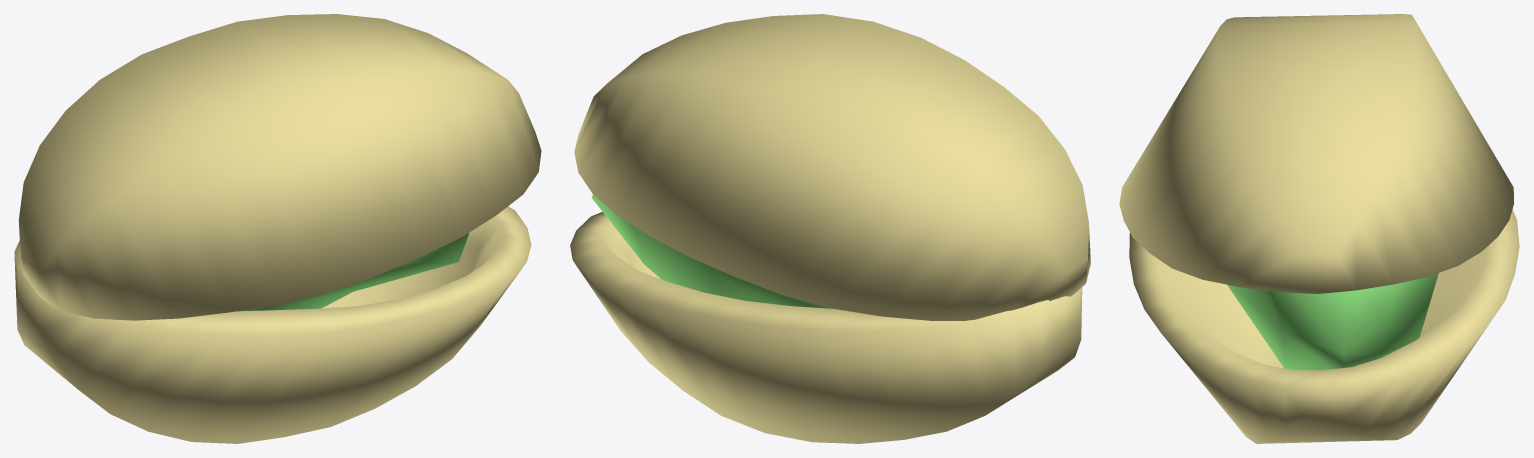
The model's file is 3D_PU_LaPistAvalanche.fbx.
3 views of the same model, side by side, from view 1: azimuth 30°, elevation 25°; view 2: azimuth 150°, elevation 25°; view 3: azimuth 270°, elevation 25° (orthographic).
Parts seen in each view (by area): view 1: Coque pistache, Coque Pistache, Pistache; view 2: Coque pistache, Coque Pistache, Pistache; view 3: Coque pistache, Coque Pistache, Pistache.
Boxes of the visible parts, x1=… form: Coque pistache: x1=18, y1=14, x2=541, y2=320; Coque Pistache: x1=14, y1=206, x2=531, y2=443; Pistache: x1=238, y1=233, x2=469, y2=311; Coque pistache: x1=574, y1=14, x2=1090, y2=320; Coque Pistache: x1=570, y1=212, x2=1082, y2=443; Pistache: x1=591, y1=194, x2=830, y2=308; Coque pistache: x1=1119, y1=14, x2=1514, y2=293; Coque Pistache: x1=1129, y1=209, x2=1519, y2=443; Pistache: x1=1227, y1=273, x2=1438, y2=370.
Size of the model in its own units: 1.61 by 1.08 by 1.13.
